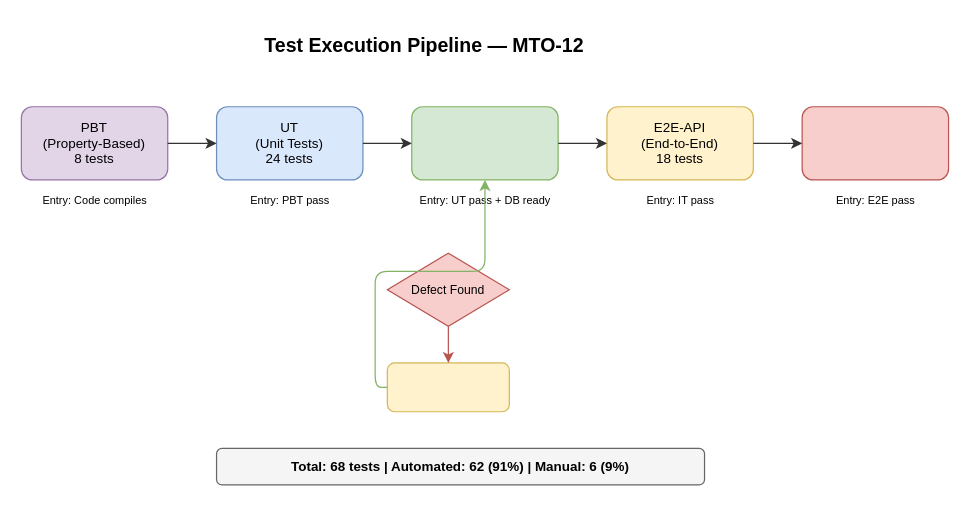
This 970x506 diagram has some shape labels left out. The shapes that lost their labels are listed below. From the top down, each one's box as (x1, y1, x2, y2) in pixels, then its label:
(411, 106, 558, 180): IT (Integration) 12 tests
(801, 106, 949, 180): SIT (Manual) 6 tests
(386, 362, 509, 412): Fix & Retest
